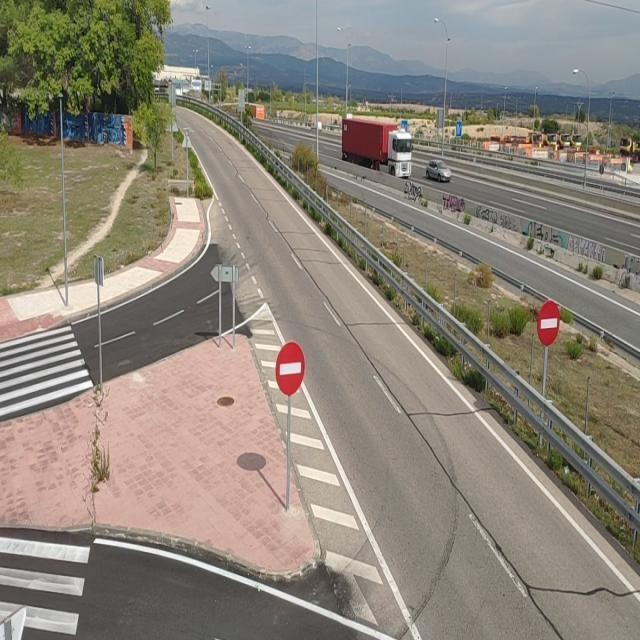Car: (425, 160, 452, 182)
Truck: (342, 118, 412, 180)
